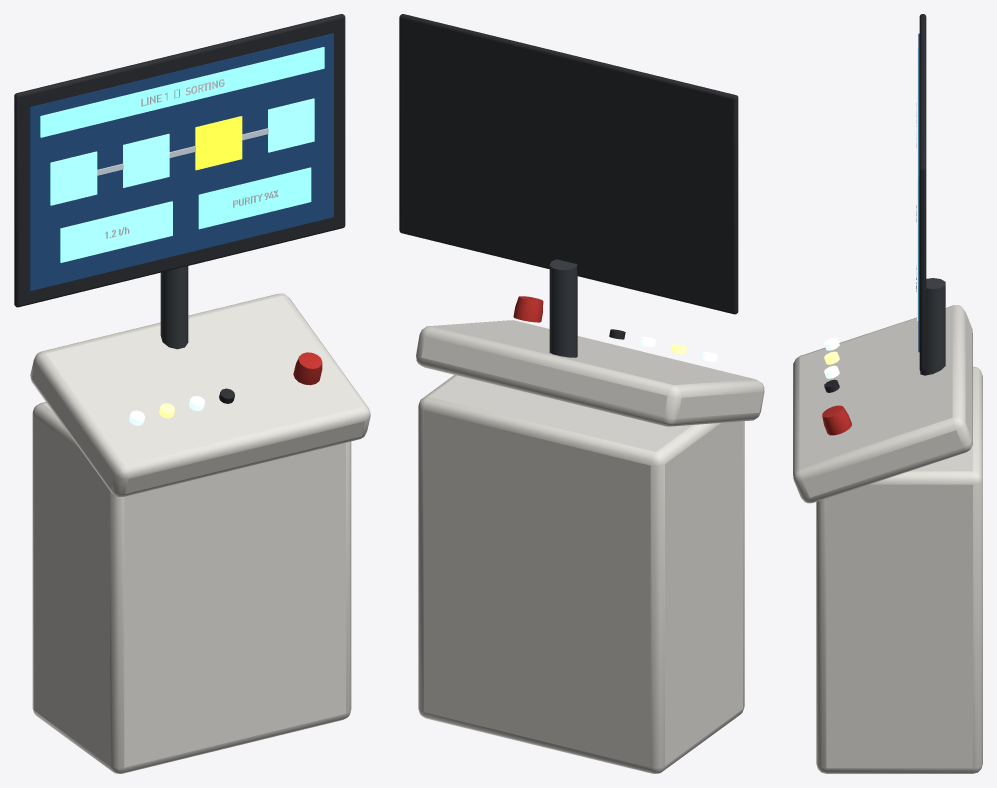
The model's file is control_console.fbx.
3 renders of one model, left to right at view 1: azimuth 30°, elevation 25°; view 2: azimuth 150°, elevation 25°; view 3: azimuth 270°, elevation 25°, orthographic. The views are drawn at different scales.
Parts seen in each view (by area): view 1: control_console; view 2: control_console; view 3: control_console.
Part boxes in pixels (x1=…): control_console: x1=14, y1=14, x2=370, y2=773; control_console: x1=399, y1=14, x2=764, y2=773; control_console: x1=793, y1=14, x2=982, y2=773.
Size of the model in its own units: 1.1 by 2.09 by 0.57.
